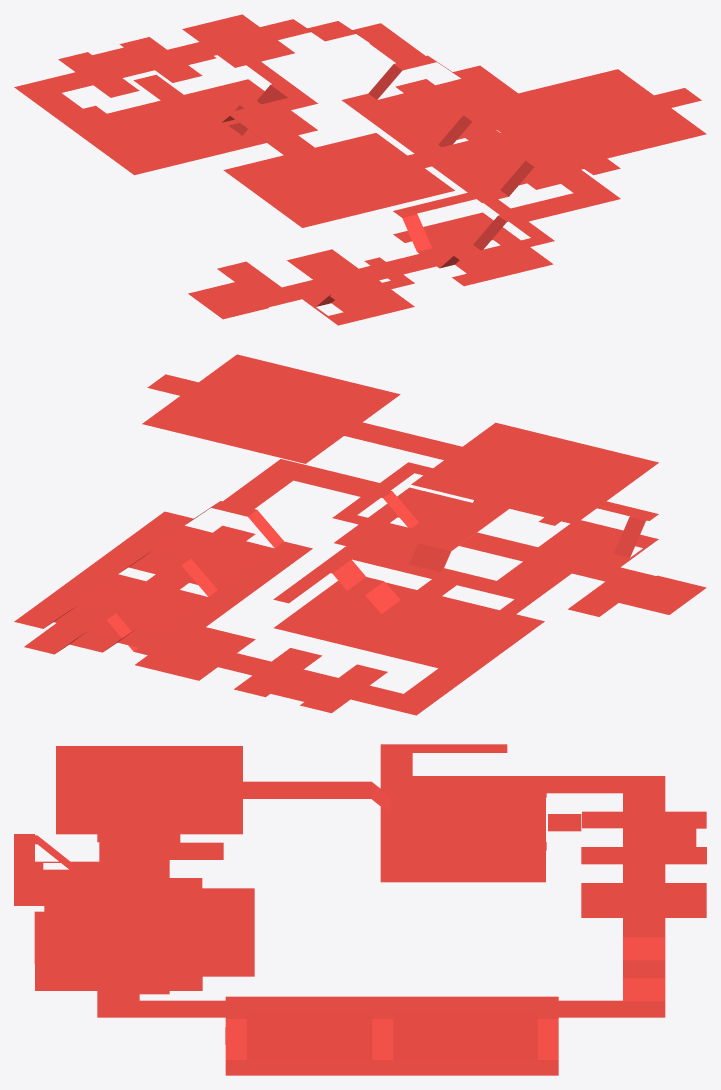
File: 0925_npc_route.fbx
3 views of the same model, one above another, from view 1: azimuth 30°, elevation 25°; view 2: azimuth 150°, elevation 25°; view 3: azimuth 270°, elevation 25° (orthographic). The views are drawn at different scales.
Parts seen in each view (by area): view 1: npc_route_0925; view 2: npc_route_0925; view 3: npc_route_0925.
Part boxes in pixels (x1,y1,x2,y2): npc_route_0925: (14,14,706,325); npc_route_0925: (14,354,706,715); npc_route_0925: (14,744,706,1075).
Bounding box in the file's own units: 9565 × 1654 × 9861.
